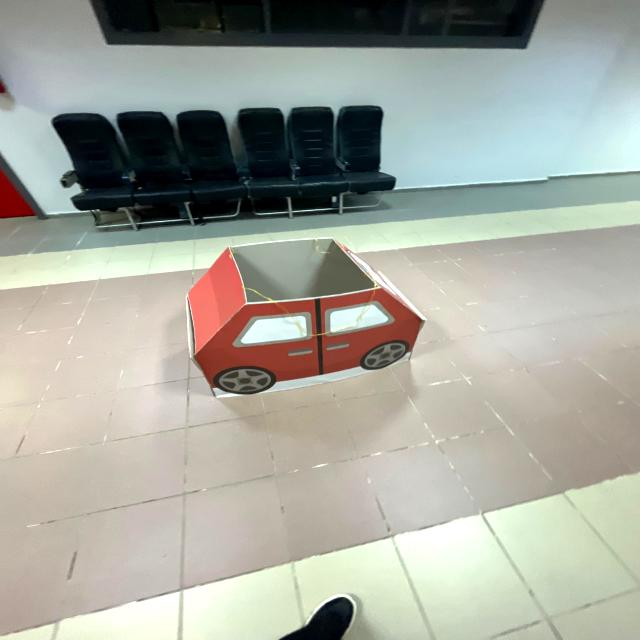red_car: (170, 228, 437, 405)
